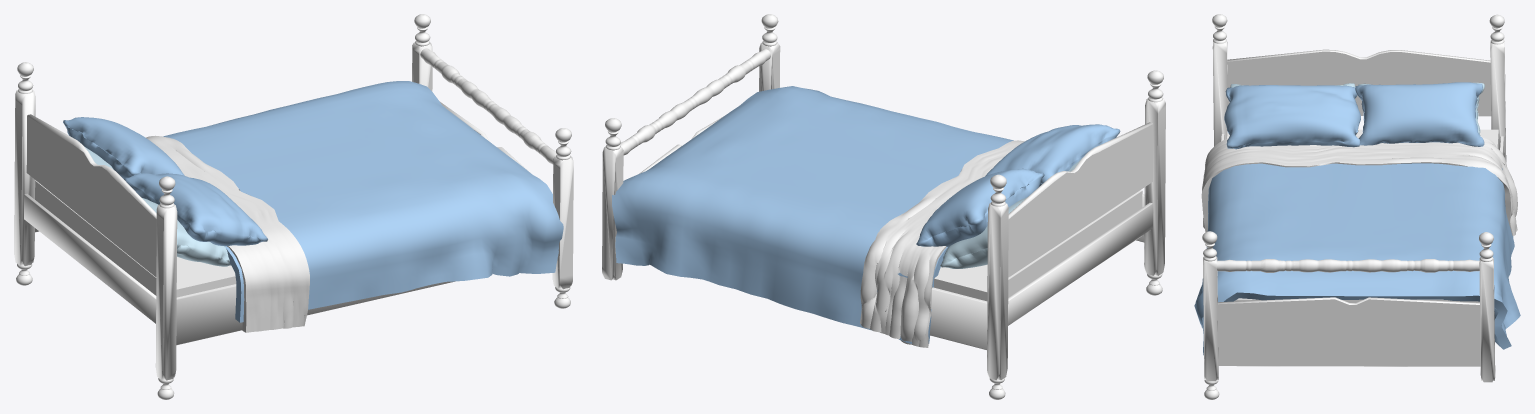
The model's file is YATAK.fbx.
3 renders of one model, left to right at view 1: azimuth 30°, elevation 25°; view 2: azimuth 150°, elevation 25°; view 3: azimuth 270°, elevation 25°, orthographic. The views are drawn at different scales.
Visible parts, largest first — view 1: Plane_2; view 2: Plane_2; view 3: Plane_2.
Part boxes in pixels (x1=…): Plane_2: x1=14, y1=14, x2=573, y2=399; Plane_2: x1=602, y1=14, x2=1165, y2=399; Plane_2: x1=1194, y1=14, x2=1520, y2=399.
Bounding box in the file's own units: 29132 × 15198 × 21450.
